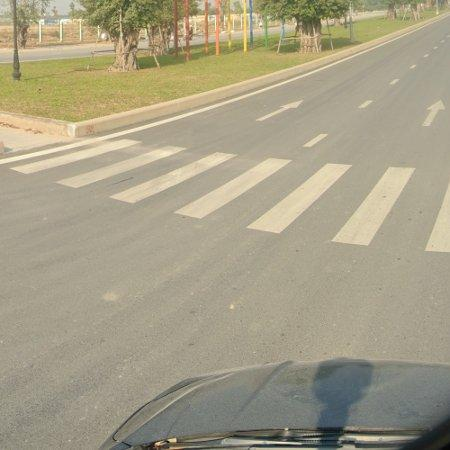crosswalks: (1, 140, 450, 254)
